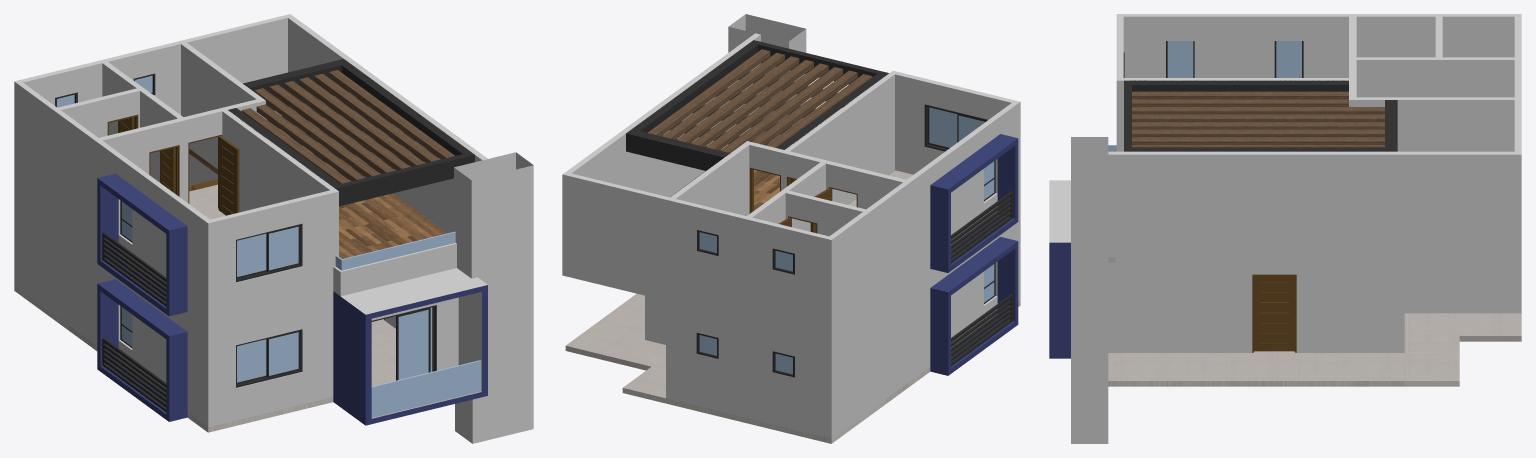
File: interior.glb
3 renders of one model, left to right at view 1: azimuth 30°, elevation 25°; view 2: azimuth 150°, elevation 25°; view 3: azimuth 270°, elevation 25°, orthographic. The views are drawn at different scales.
Visible parts, largest first — view 1: piso2 - paredextra, piso1 - paredes, piso2 - cosa, piso2 - balconMadera, piso2 - suelo, piso2 - hierro, piso2 - recuadro, piso1 - recuadro, piso1 - suelo, piso1 - vidrio, Cube.016, metal2 - - piso2 (+8 smaller); view 2: piso2 - paredextra, piso1 - paredes, piso2 - balconMadera, piso1 - suelo, piso2 - hierro, piso2 - recuadro, piso1 - recuadro, piso2 - suelo, piso2 - cosa, Cube.033, metal2 - - piso2, Cube.010 - piso2 (+5 smaller); view 3: piso2 - paredextra, piso1 - paredes, piso1 - suelo, piso2 - balconMadera, piso2 - cosa, piso2 - hierro, piso2 - suelo, Cube.024, Cube.003 - piso2, Cube.004 - piso2, Cube.023.
Boxes of the visible parts, x1,y1,x2,y2 form: piso2 - paredextra: (14, 14, 487, 321); piso1 - paredes: (14, 154, 487, 427); piso2 - cosa: (454, 152, 533, 443); piso2 - balconMadera: (241, 70, 454, 183); piso2 - suelo: (14, 125, 487, 326); piso2 - hierro: (228, 59, 474, 206); piso2 - recuadro: (97, 173, 187, 316); piso1 - recuadro: (97, 279, 187, 421); piso1 - suelo: (14, 285, 487, 432); piso1 - vidrio: (371, 360, 481, 417); Cube.016: (396, 307, 430, 380); metal2 - - piso2: (102, 232, 166, 306); piso2 - paredextra: (562, 33, 1020, 335); piso1 - paredes: (645, 203, 1020, 438); piso2 - balconMadera: (648, 49, 872, 153); piso1 - suelo: (565, 293, 1020, 443); piso2 - hierro: (626, 40, 888, 170); piso2 - recuadro: (930, 134, 1018, 272); piso1 - recuadro: (930, 237, 1018, 375); piso2 - suelo: (562, 131, 1020, 340); piso2 - cosa: (728, 14, 806, 131); Cube.033: (951, 294, 1013, 366); metal2 - - piso2: (951, 191, 1013, 263); Cube.010 - piso2: (927, 107, 957, 149); piso2 - paredextra: (1108, 14, 1521, 257); piso1 - paredes: (1049, 248, 1521, 352); piso1 - suelo: (1049, 313, 1521, 386); piso2 - balconMadera: (1132, 91, 1384, 147); piso2 - cosa: (1071, 137, 1108, 443); piso2 - hierro: (1124, 80, 1397, 151); piso2 - suelo: (1049, 180, 1521, 262); Cube.024: (1254, 276, 1294, 351); Cube.003 - piso2: (1274, 41, 1303, 77); Cube.004 - piso2: (1166, 41, 1194, 77); Cube.023: (1252, 274, 1296, 352).
Size of the model in its own units: 9.42 by 7.37 by 11.46.
Materials: 9 (3 with a texture image).
